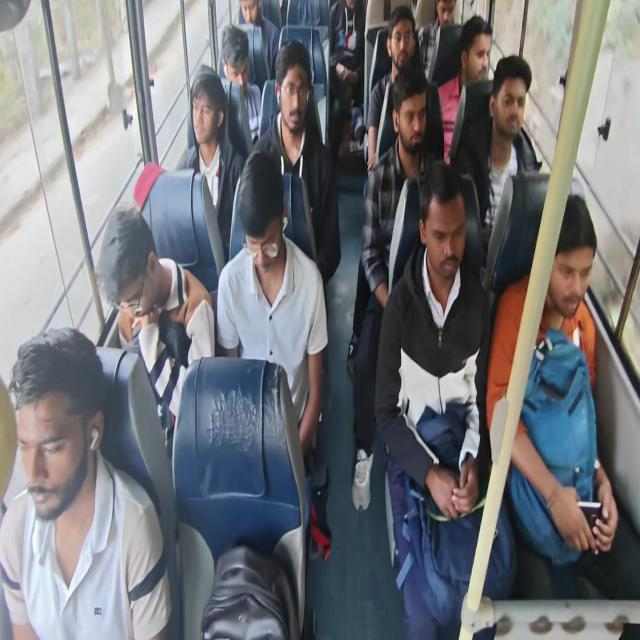person: (18, 335, 104, 510), (537, 203, 597, 319), (96, 210, 160, 317), (236, 156, 287, 278), (426, 189, 464, 285), (280, 40, 314, 139), (396, 75, 426, 158), (496, 66, 526, 144), (183, 78, 215, 143), (462, 25, 494, 82), (218, 29, 242, 82), (390, 22, 412, 59), (237, 0, 263, 28), (435, 0, 455, 30)
